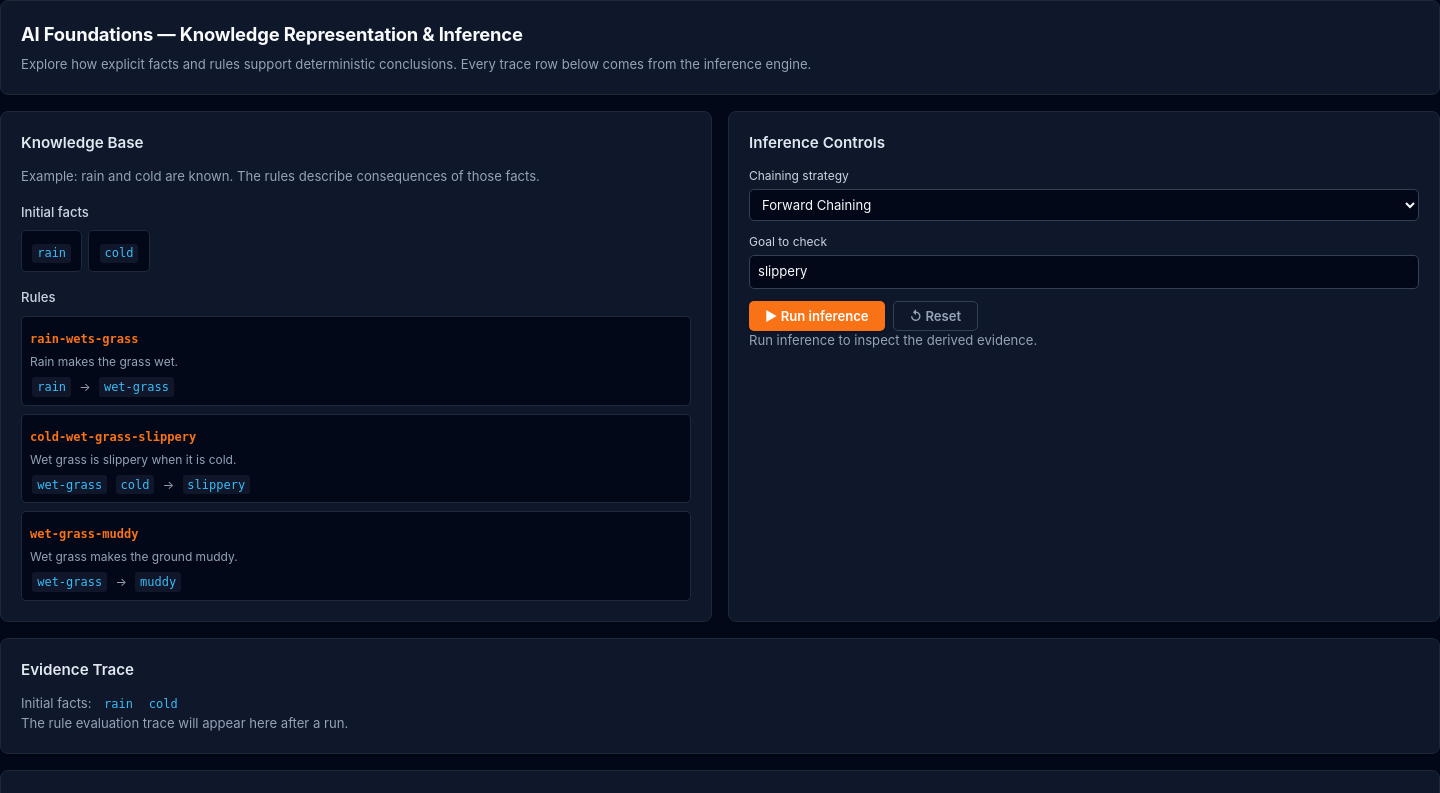
KnowledgeLab › reset restores the default strategy, goal, and empty evidence state
The width and height of the screenshot is (1440, 793).
Replace the text in the field named "Inference goal" with "sunny" at (1084, 272), box [749, 255, 1419, 289]
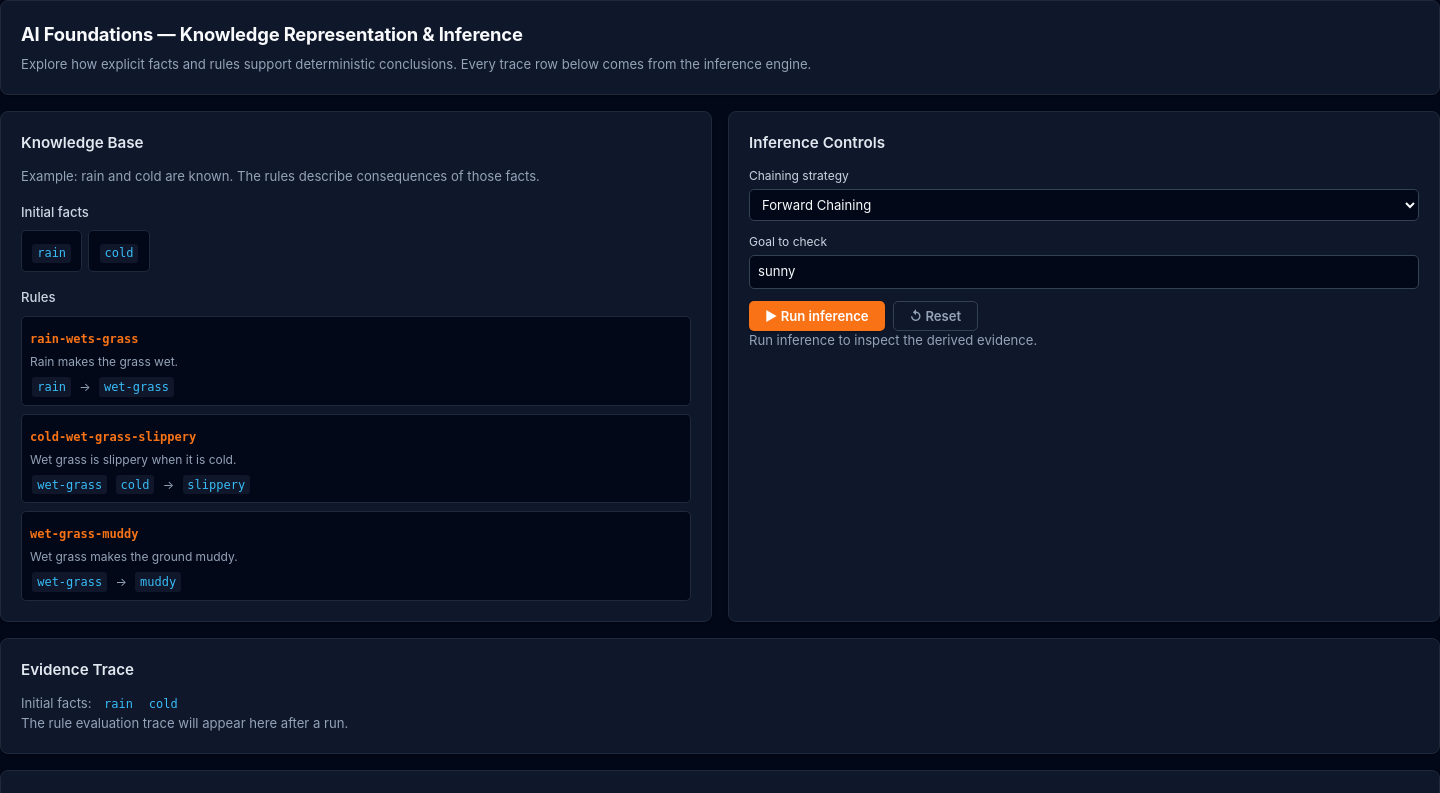
Select "Backward Chaining" in the dropdown labelled "Chaining strategy" at (1084, 205), box [749, 189, 1419, 221]
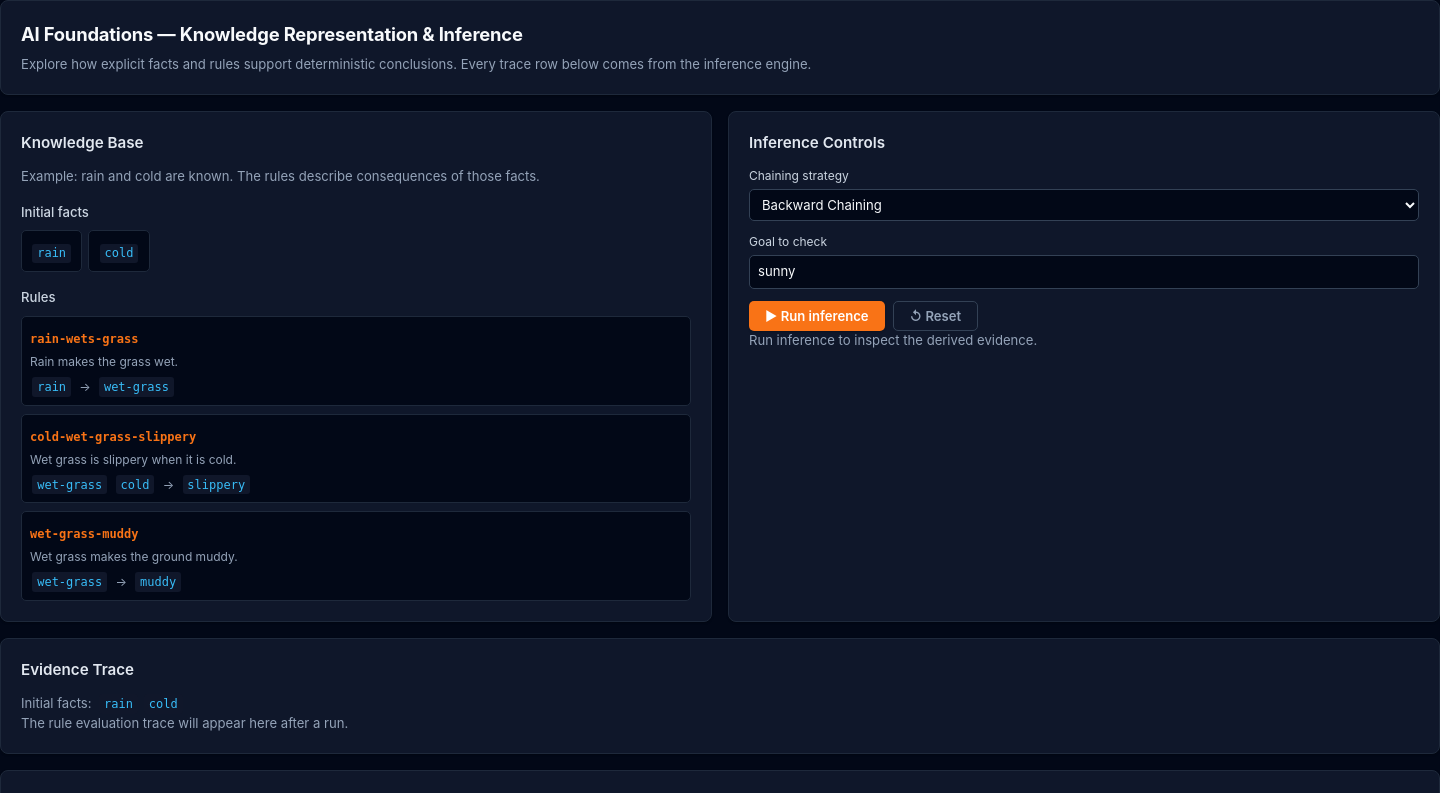
Click the button "▶ Run inference" at (817, 316), box [749, 301, 885, 331]
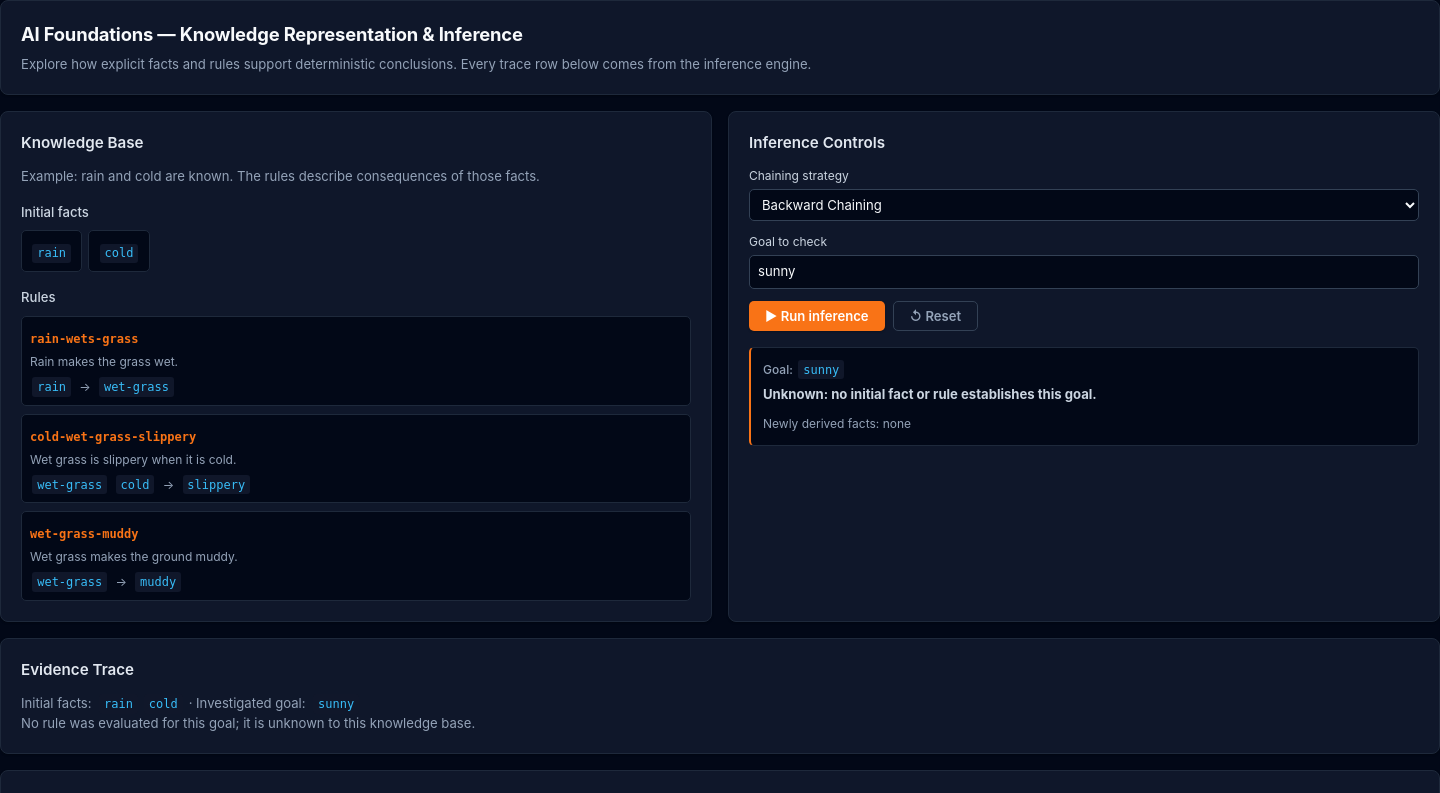
Click the button "↺ Reset" at (935, 316), box [893, 301, 978, 331]
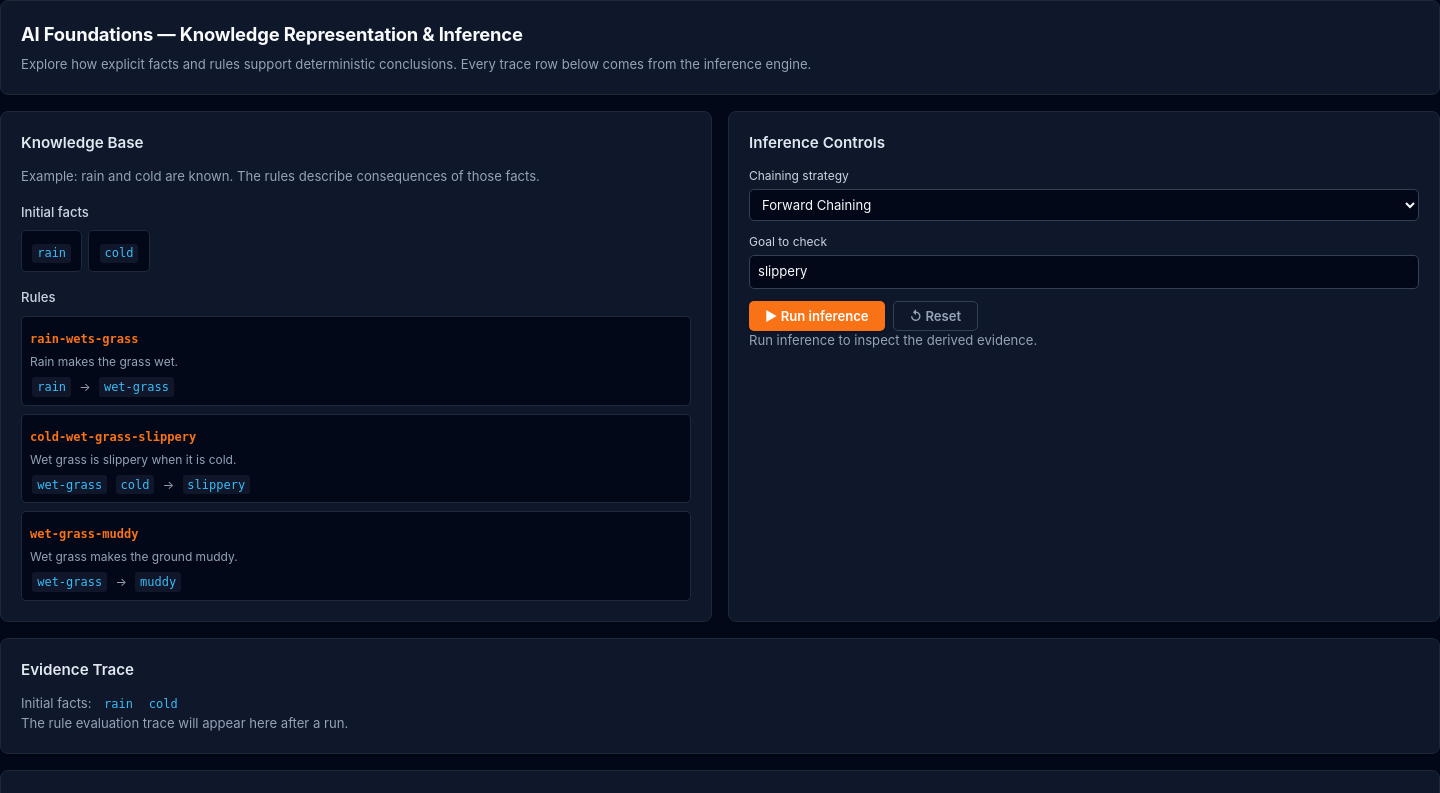
Expected: the field named "Inference goal" holds "slippery", [749, 255, 1419, 289]
Expected: the message reads "Run inference to inspect the derived evidence.", [749, 332, 1037, 348]
